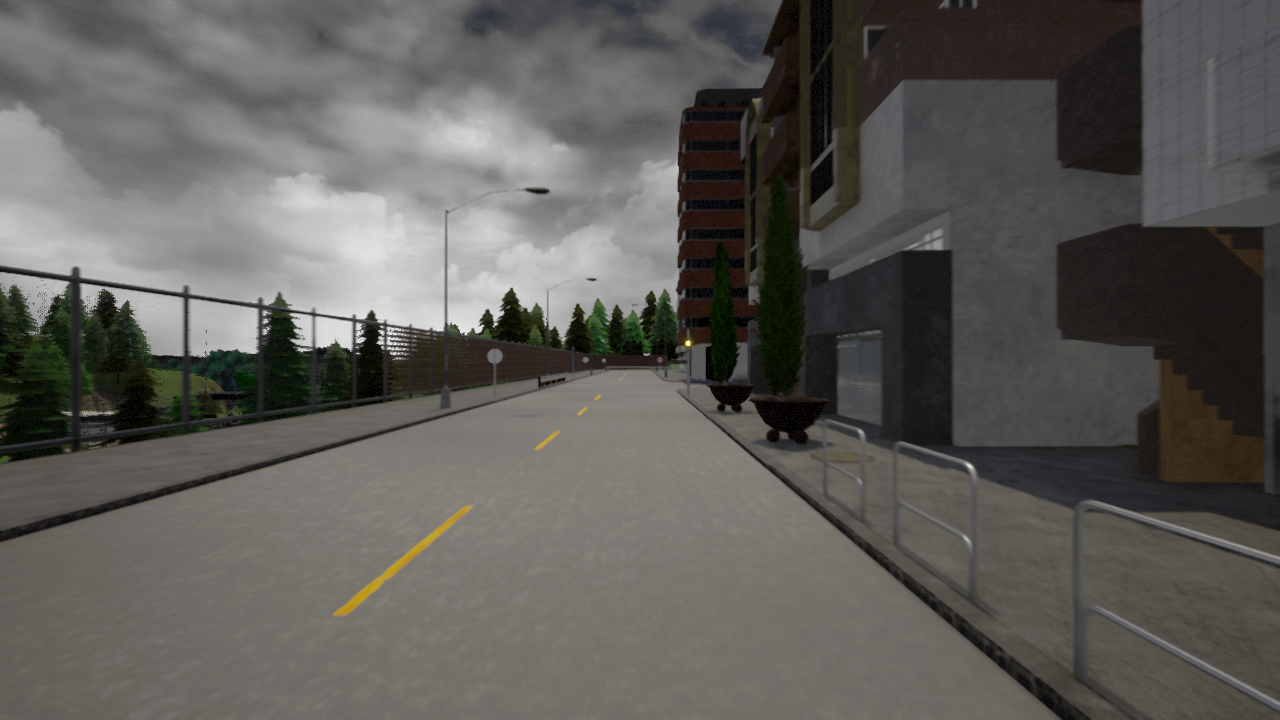yellow: (684, 332, 692, 350)
